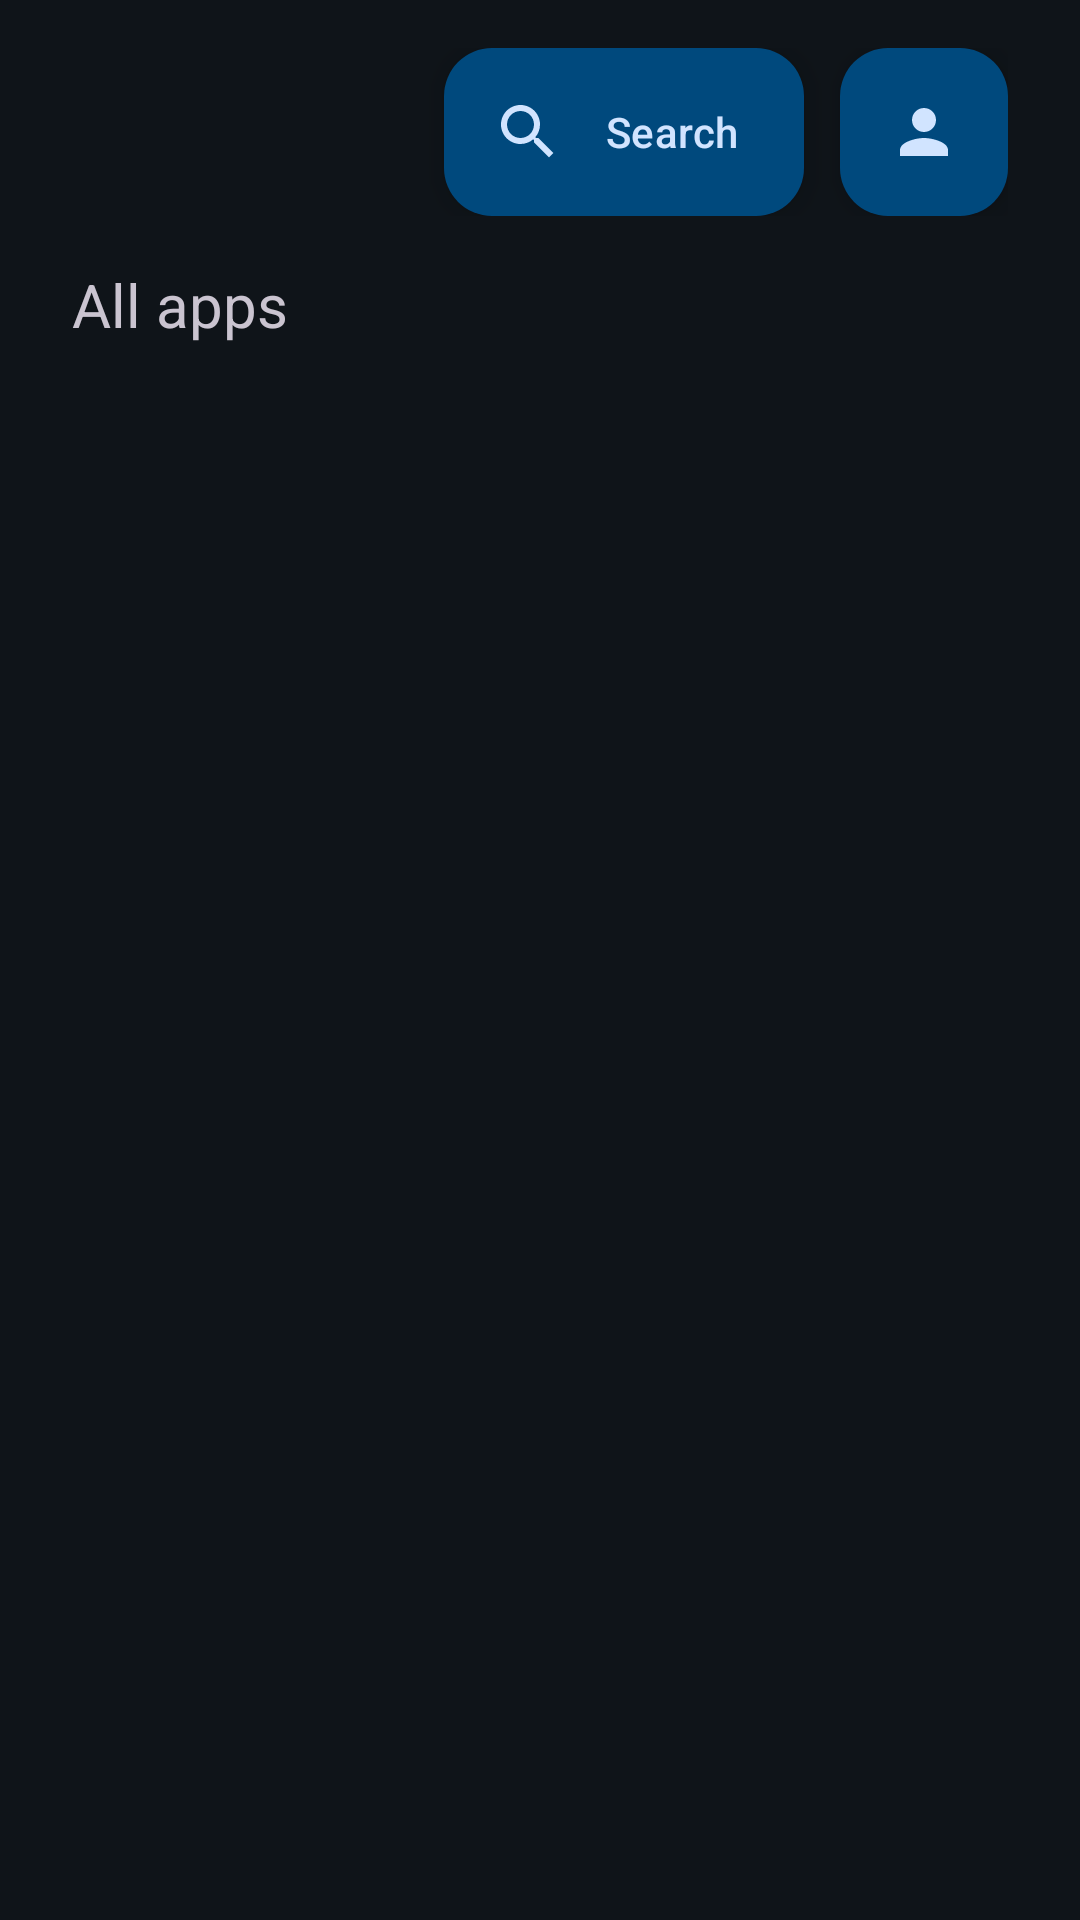

Where icons sit on this 1080 × 1920 app screen, as {"x1": x1, "y1": y1, "x2": x2, "y2": y2}:
Choose Profile: {"x1": 840, "y1": 48, "x2": 1008, "y2": 216}
